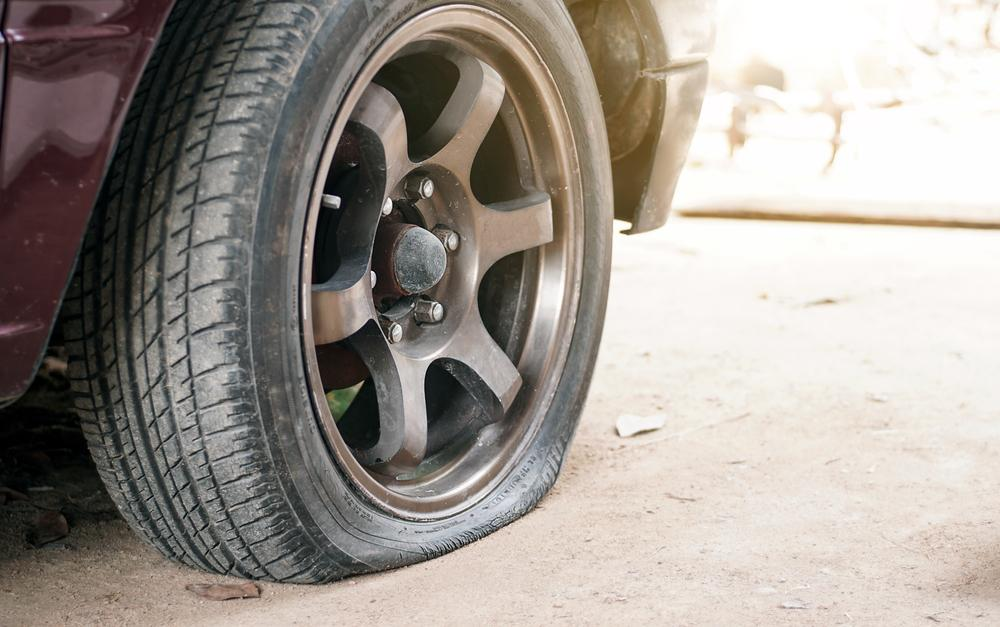tire flat: (60, 0, 614, 586)
